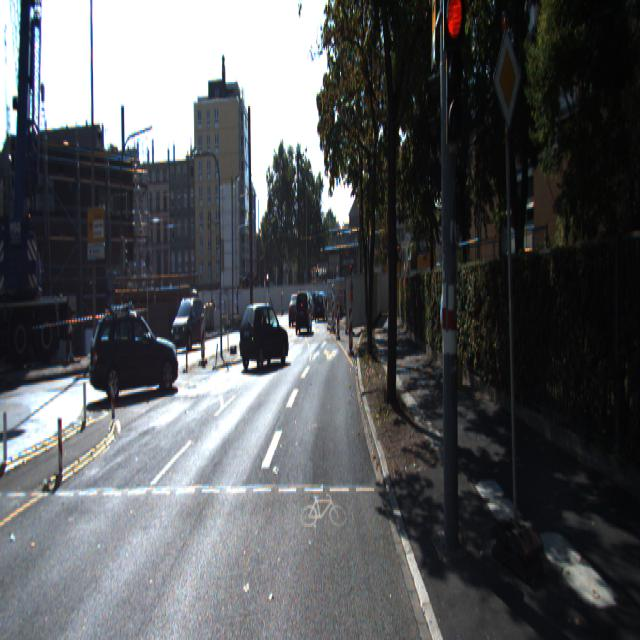Car: (90, 304, 181, 401), (237, 297, 289, 370), (170, 292, 205, 350), (294, 284, 312, 330), (289, 292, 303, 324)
